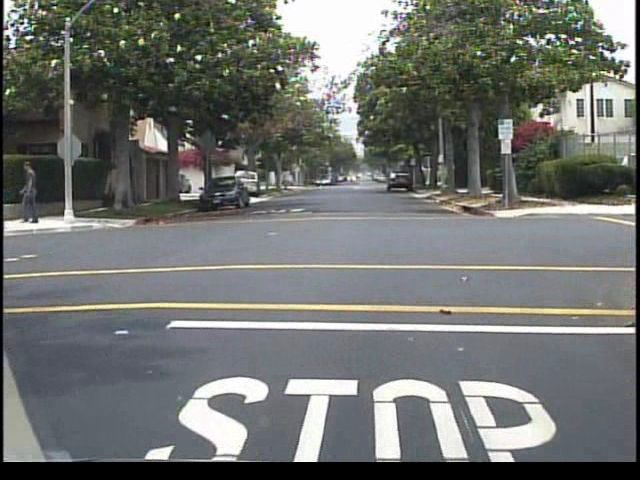person: (15, 155, 49, 227)
